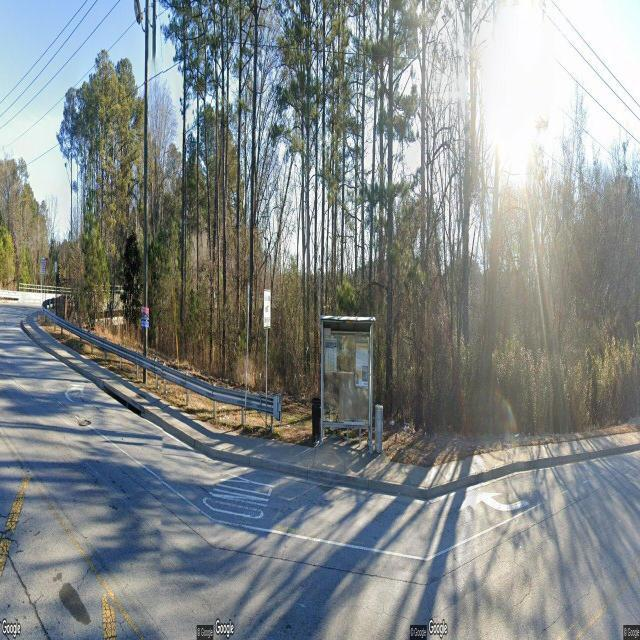seating: (343, 418, 366, 450)
shelter: (319, 315, 376, 455)
trash_can: (312, 396, 322, 441), (375, 404, 383, 454)
